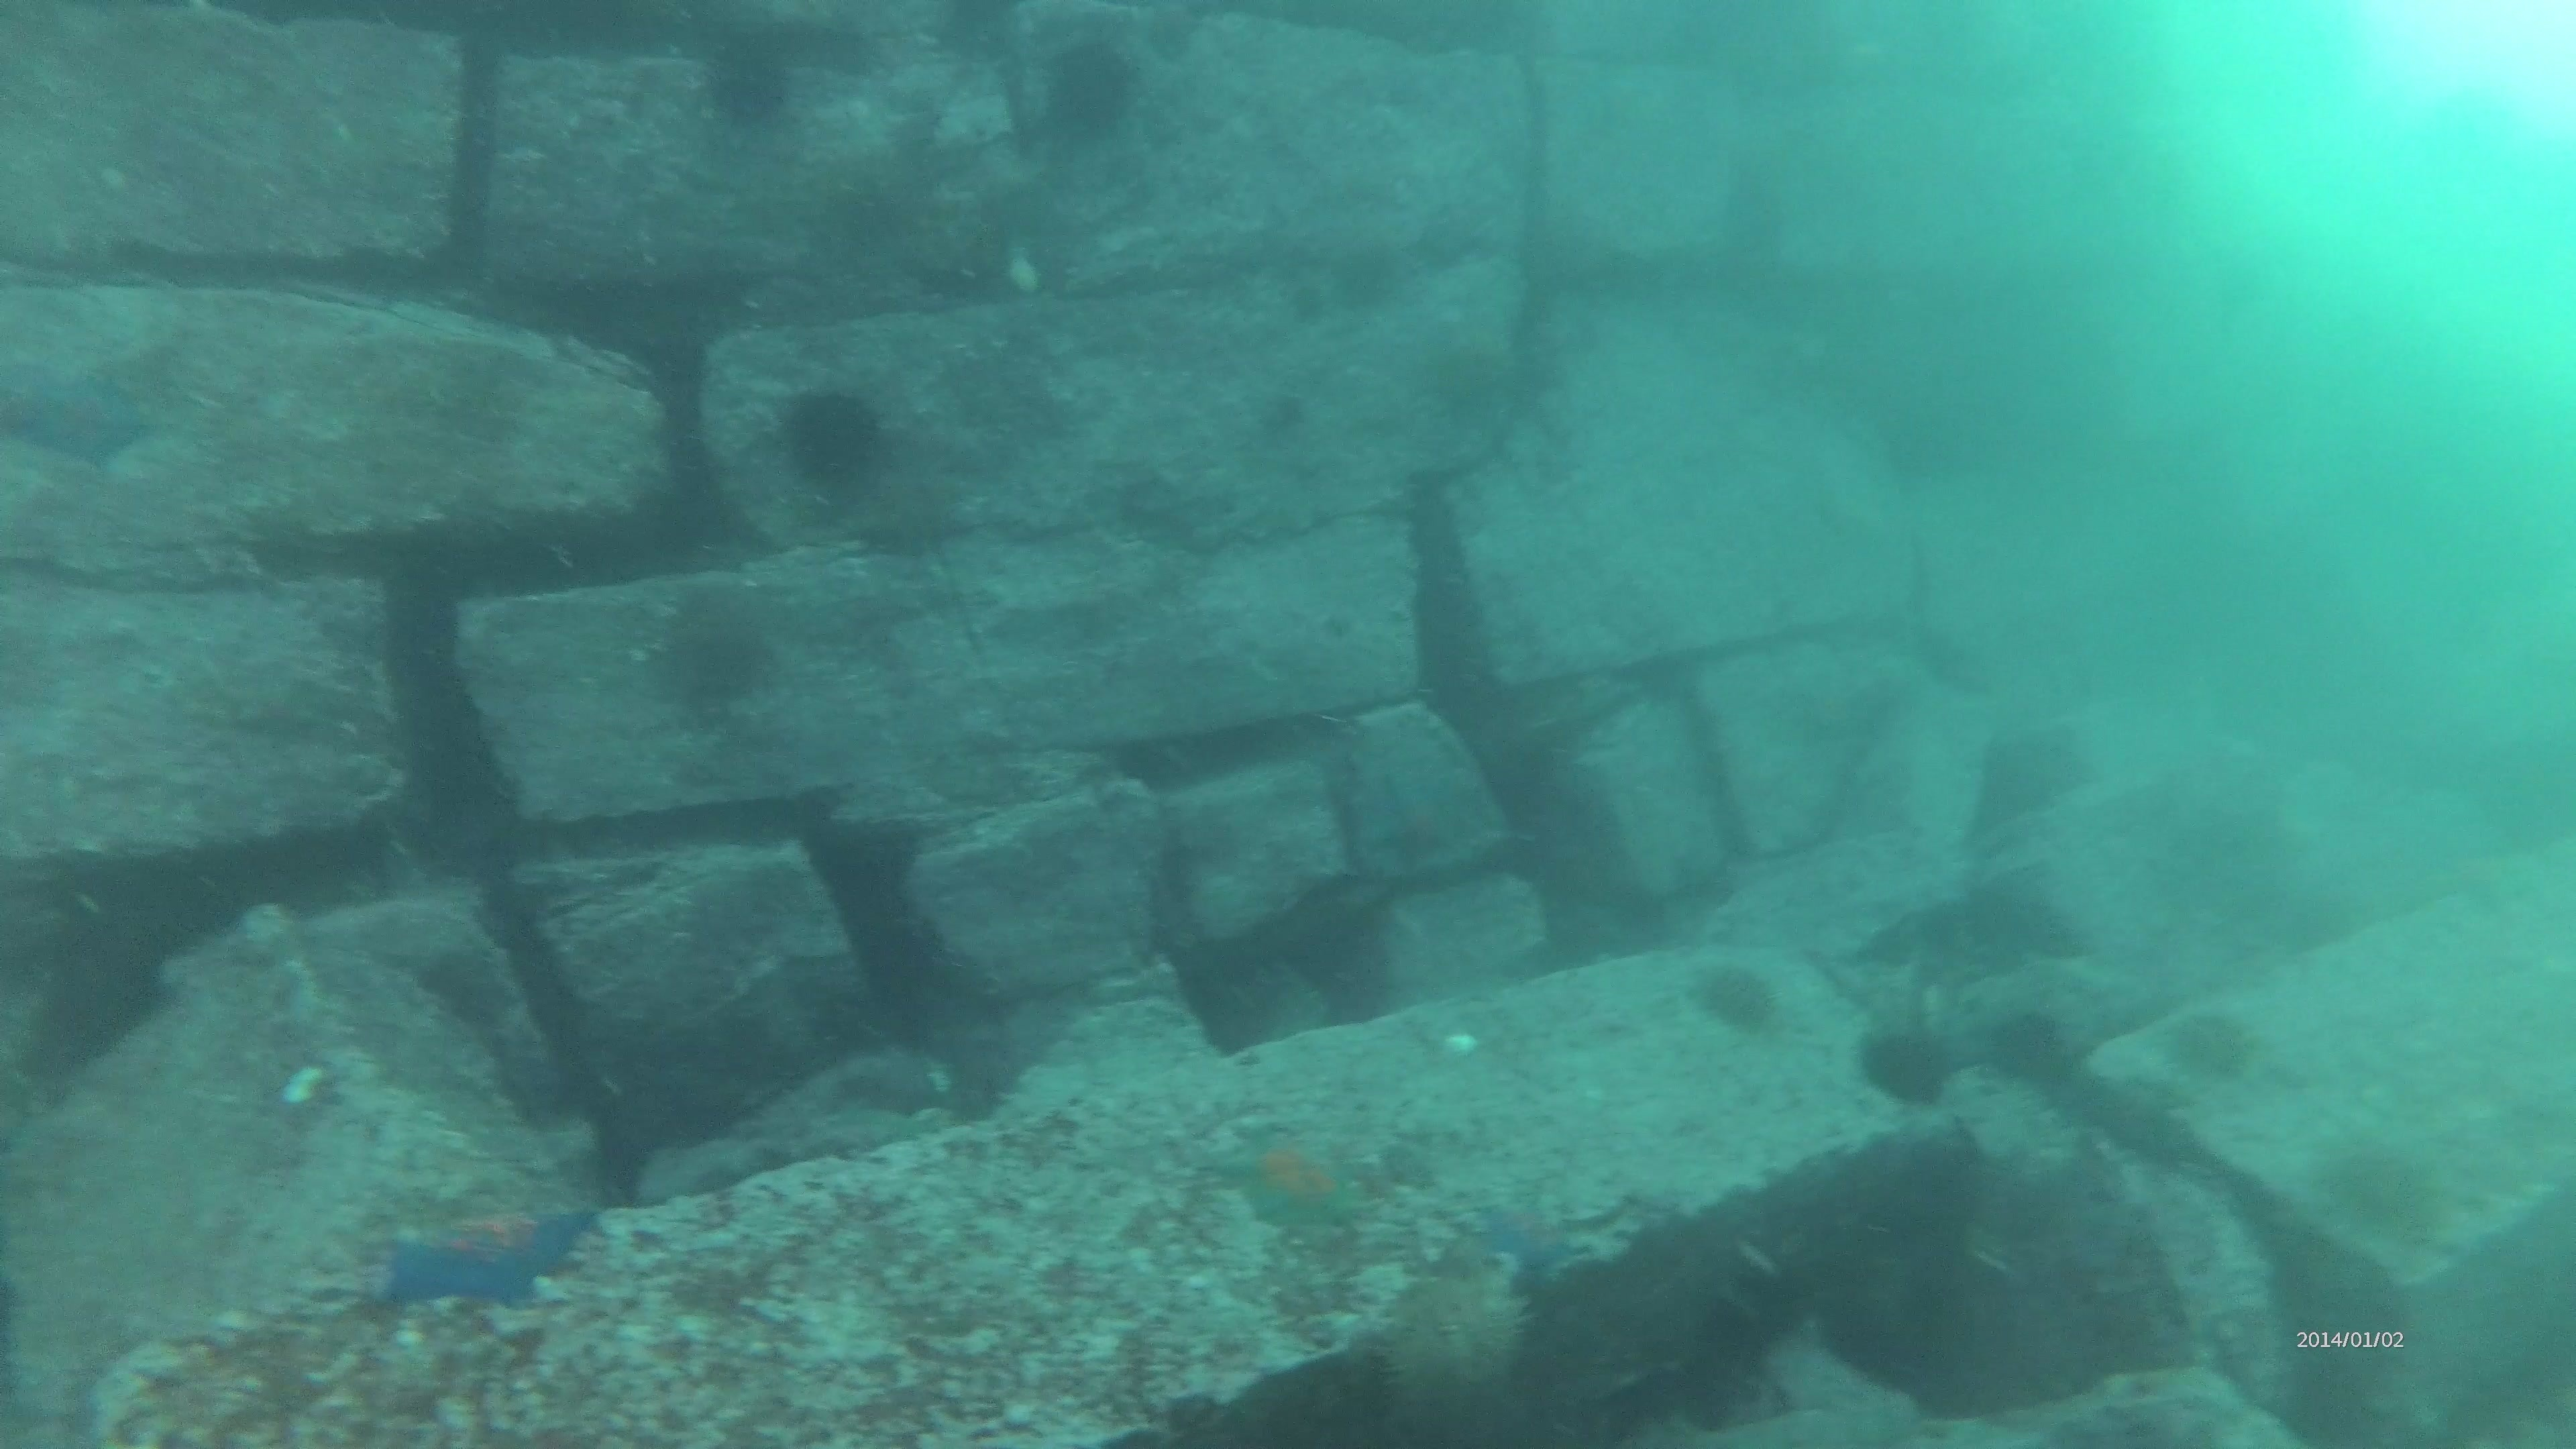echinus: (644, 596, 782, 720), (2311, 1131, 2450, 1251), (770, 377, 897, 499), (1035, 34, 1146, 150), (690, 32, 805, 136), (1851, 1014, 1964, 1115), (1976, 1000, 2084, 1097), (1683, 954, 1789, 1044), (2160, 1003, 2266, 1092)
starfish: (375, 1185, 602, 1316), (1207, 1118, 1375, 1240), (1461, 1192, 1612, 1283)
